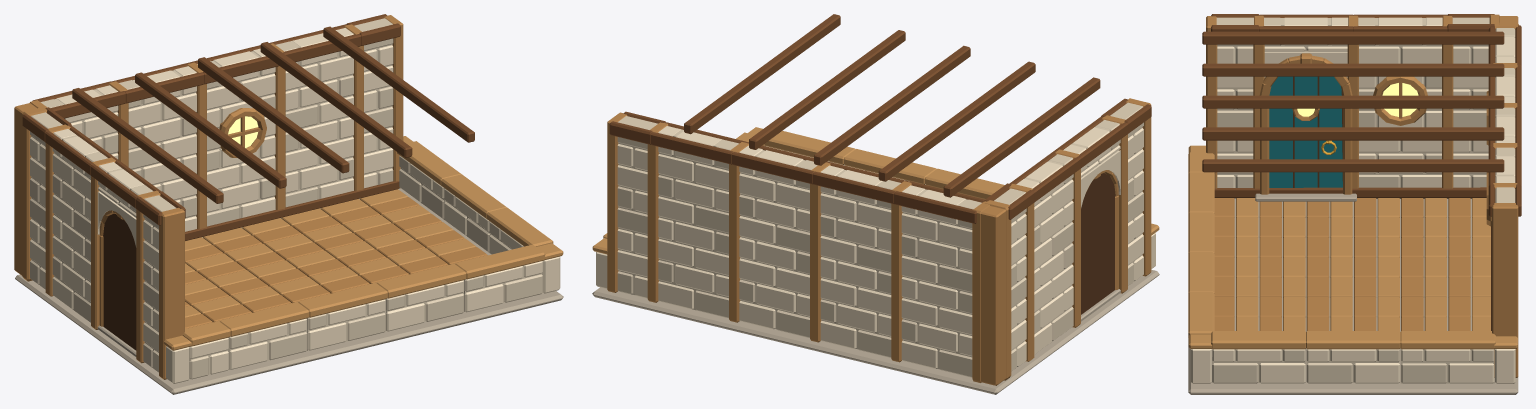
File: houseboat_t2_interior.glb
3 views of the same model, side by side, from view 1: azimuth 30°, elevation 25°; view 2: azimuth 150°, elevation 25°; view 3: azimuth 270°, elevation 25° (orthographic). The views are drawn at different scales.
Parts seen in each view (by area): view 1: houseboat_t2_interior; view 2: houseboat_t2_interior; view 3: houseboat_t2_interior, part_door_leaf.
Part boxes in pixels (box(x1,y1,x2,y2)): houseboat_t2_interior: box(14, 14, 563, 394); houseboat_t2_interior: box(592, 14, 1159, 394); houseboat_t2_interior: box(1188, 14, 1521, 394); part_door_leaf: box(1269, 76, 1342, 187).
Bounding box in the file's own units: 5.04 × 2.24 × 3.54.
